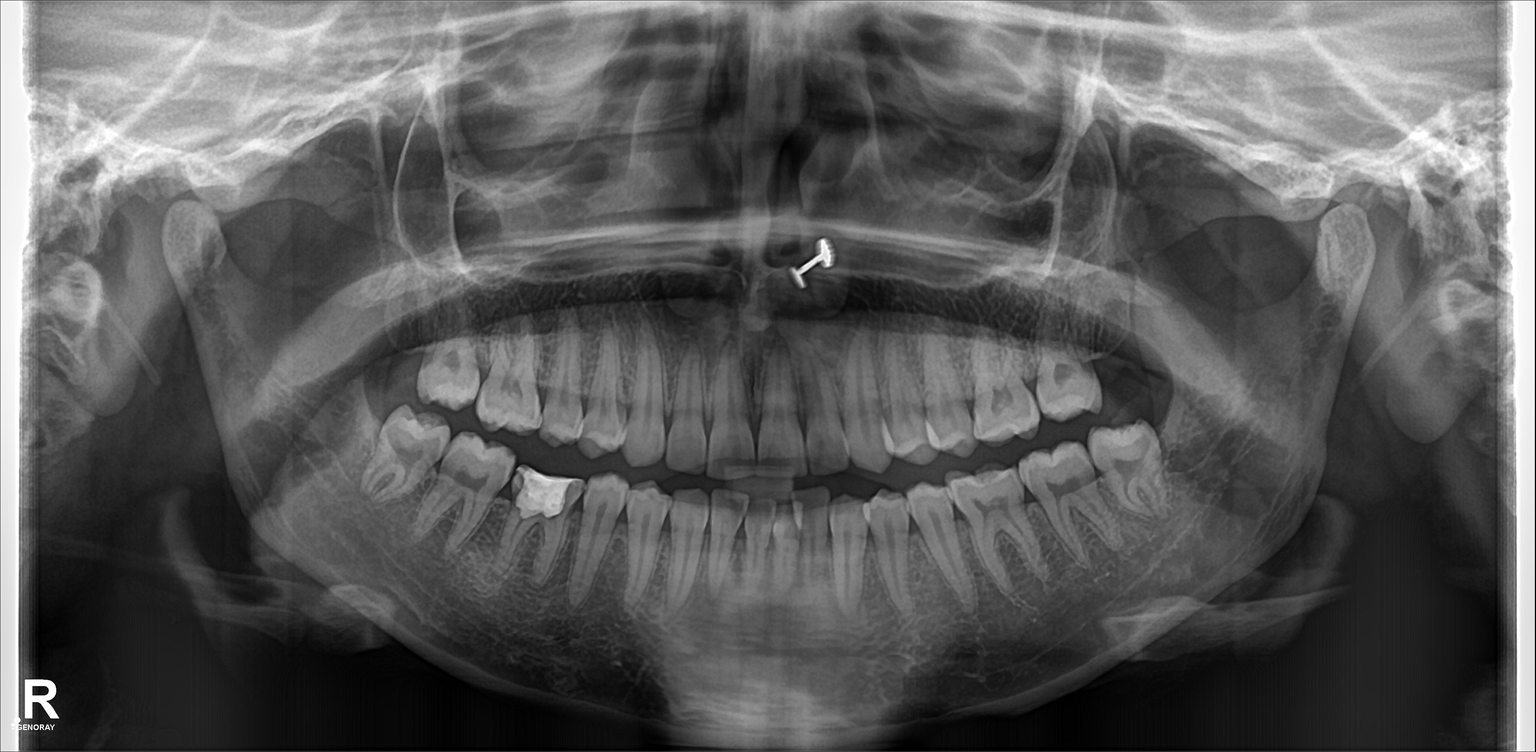Endodontically Treated Tooth: (514, 463, 569, 582)
Missing Tooth: (1095, 315, 1153, 414), (372, 313, 428, 405)
